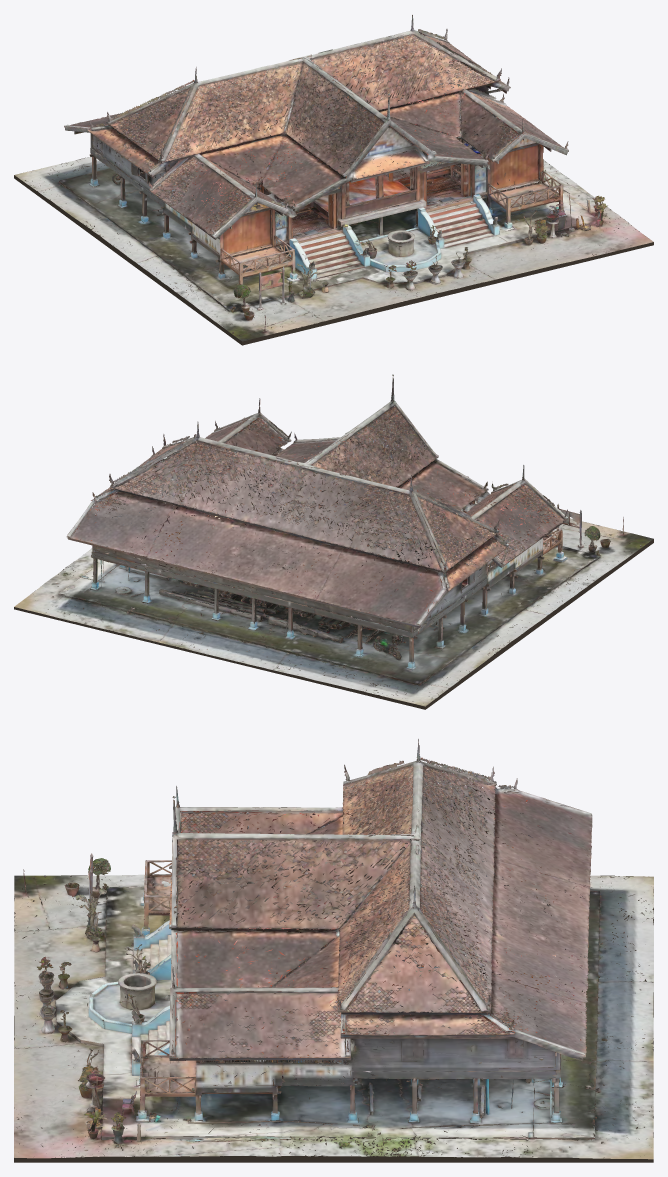
Rendered from temple_lite.glb.
The picture shows the model from 3 angles, top to bottom: view 1: azimuth 30°, elevation 25°; view 2: azimuth 150°, elevation 25°; view 3: azimuth 270°, elevation 25°; orthographic projection. The views are drawn at different scales.
Parts seen in each view (by area): view 1: Object_9, Object_4, Object_8, Object_15, Object_13, Object_3, Object_17, Object_6, Object_14, Object_18, Object_5, Object_7 (+5 smaller); view 2: Object_6, Object_4, Object_8, Object_5, Object_9, Object_7, Object_3, Object_10, Object_14, Object_11, Object_17, Object_13 (+5 smaller); view 3: Object_9, Object_7, Object_6, Object_4, Object_8, Object_13, Object_10, Object_5, Object_11, Object_15, Object_17, Object_16 (+5 smaller).
Part boxes in pixels (x1=…): Object_9: x1=85, y1=16, x2=650, y2=327; Object_4: x1=14, y1=30, x2=499, y2=321; Object_8: x1=90, y1=67, x2=653, y2=335; Object_15: x1=49, y1=43, x2=545, y2=330; Object_13: x1=99, y1=19, x2=620, y2=292; Object_3: x1=16, y1=30, x2=562, y2=274; Object_17: x1=59, y1=35, x2=616, y2=311; Object_6: x1=14, y1=27, x2=653, y2=345; Object_14: x1=90, y1=71, x2=561, y2=341; Object_18: x1=93, y1=60, x2=550, y2=326; Object_5: x1=87, y1=15, x2=601, y2=332; Object_7: x1=59, y1=50, x2=586, y2=245; Object_6: x1=14, y1=409, x2=653, y2=709; Object_4: x1=110, y1=433, x2=612, y2=706; Object_8: x1=17, y1=412, x2=646, y2=659; Object_5: x1=52, y1=421, x2=631, y2=673; Object_9: x1=14, y1=398, x2=621, y2=669; Object_7: x1=83, y1=438, x2=513, y2=683; Object_3: x1=102, y1=400, x2=565, y2=704; Object_10: x1=87, y1=379, x2=623, y2=684; Object_14: x1=106, y1=434, x2=653, y2=651; Object_11: x1=62, y1=375, x2=562, y2=625; Object_17: x1=59, y1=405, x2=600, y2=693; Object_13: x1=45, y1=412, x2=587, y2=667; Object_9: x1=14, y1=781, x2=653, y2=1159; Object_7: x1=103, y1=787, x2=599, y2=1156; Object_6: x1=14, y1=788, x2=653, y2=1162; Object_4: x1=14, y1=761, x2=653, y2=1125; Object_8: x1=14, y1=739, x2=653, y2=1158; Object_13: x1=24, y1=808, x2=647, y2=1151; Object_10: x1=14, y1=780, x2=599, y2=1156; Object_5: x1=14, y1=755, x2=653, y2=1156; Object_11: x1=25, y1=771, x2=588, y2=1157; Object_15: x1=14, y1=771, x2=600, y2=1125; Object_17: x1=39, y1=807, x2=650, y2=1144; Object_16: x1=14, y1=770, x2=591, y2=1156.
Bounding box in the file's own units: 16.77 × 6.24 × 16.11.
1 material, 1 textured.
